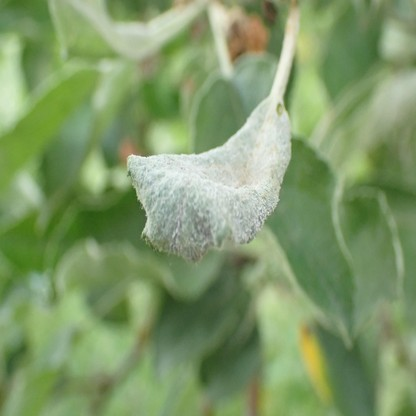powdery_mildew: (126, 101, 293, 265)
